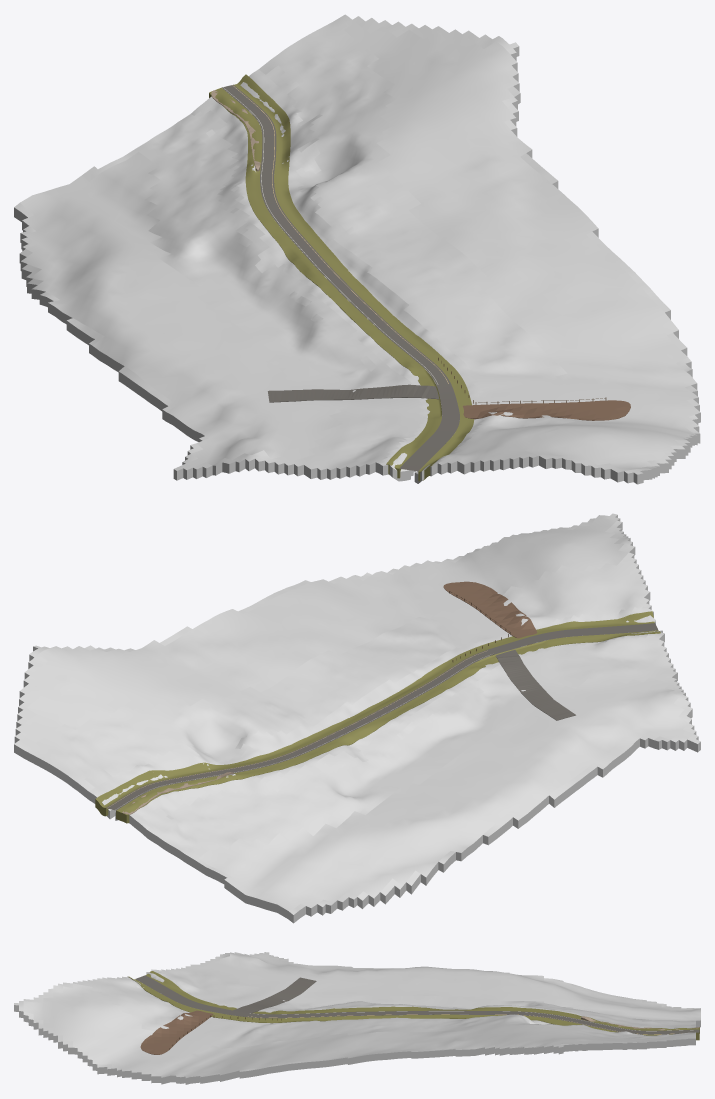
Rendered from conz_23.glb.
The picture shows the model from 3 angles, top to bottom: view 1: azimuth 30°, elevation 25°; view 2: azimuth 150°, elevation 25°; view 3: azimuth 270°, elevation 25°; orthographic projection. The views are drawn at different scales.
Parts seen in each view (by area): view 1: terrain23, road23, verge23L, verge23R, lot_dirt1400023, lot_track1400023; view 2: terrain23, verge23L, verge23R, road23, lot_dirt1400023, lot_track1400023; view 3: terrain23, road23, verge23R, verge23L, lot_dirt1400023, lot_track1400023.
Boxes of the visible parts, x1,y1,x2,y2 form: terrain23: (14, 14, 700, 484); road23: (222, 84, 459, 471); verge23L: (234, 74, 474, 481); verge23R: (209, 87, 441, 478); lot_dirt1400023: (463, 400, 630, 420); lot_track1400023: (268, 384, 439, 402); terrain23: (14, 513, 700, 923); verge23L: (95, 611, 654, 816); verge23R: (116, 630, 660, 823); road23: (106, 623, 657, 810); lot_dirt1400023: (443, 581, 537, 645); lot_track1400023: (492, 648, 575, 720); terrain23: (14, 952, 700, 1084); road23: (135, 975, 699, 1034); verge23R: (145, 971, 699, 1033); verge23L: (128, 976, 699, 1040); lot_dirt1400023: (140, 1010, 213, 1054); lot_track1400023: (233, 977, 316, 1012).
Size of the model in its own units: 180 by 48.85 by 280.
